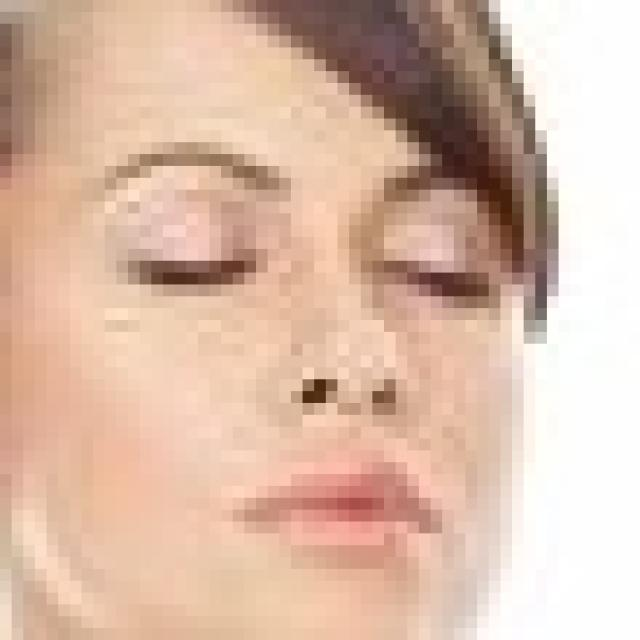Eyeclosed: (371, 244, 490, 312), (133, 240, 252, 300)
